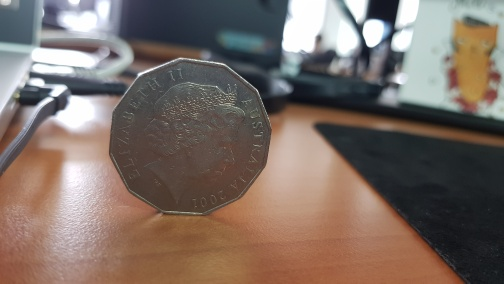coin: (108, 56, 272, 217)
